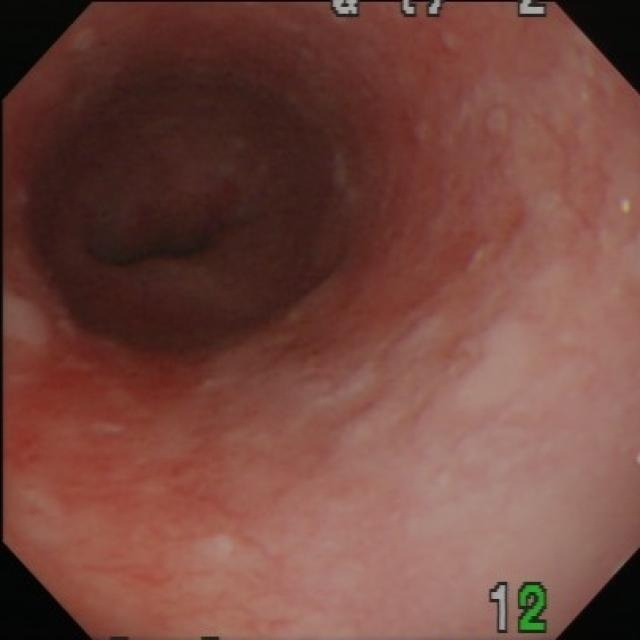A: (3, 359, 225, 538)
I: (49, 102, 301, 340)
J: (310, 210, 590, 477), (3, 290, 50, 350)
S: (489, 581, 551, 636), (327, 3, 549, 18)
